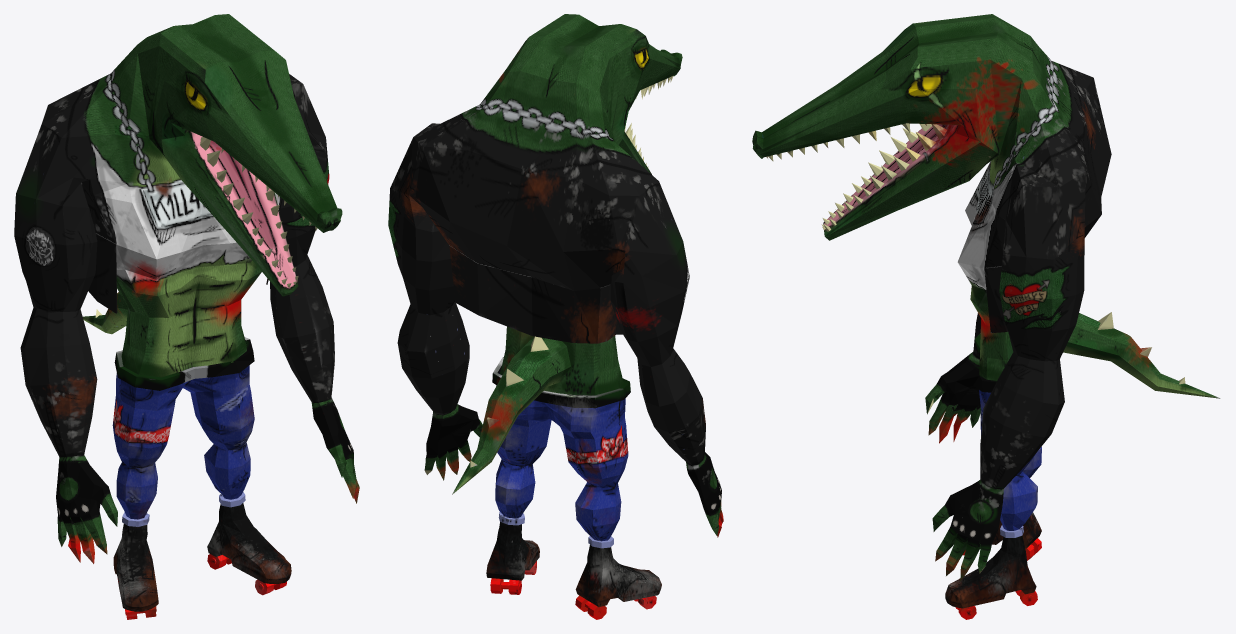
The model's file is cocodrilaBonesSelect_000035.obj.
3 renders of one model, left to right at view 1: azimuth 30°, elevation 25°; view 2: azimuth 150°, elevation 25°; view 3: azimuth 270°, elevation 25°, orthographic. The views are drawn at different scales.
Visible parts, largest first — view 1: Crocodile.002_Cylinder.002; view 2: Crocodile.002_Cylinder.002; view 3: Crocodile.002_Cylinder.002.
Boxes of the visible parts, x1,y1,x2,y2 form: Crocodile.002_Cylinder.002: (14,14,359,619); Crocodile.002_Cylinder.002: (388,14,723,619); Crocodile.002_Cylinder.002: (752,14,1220,619).
Size of the model in its own units: 3.72 by 6.71 by 5.12.
